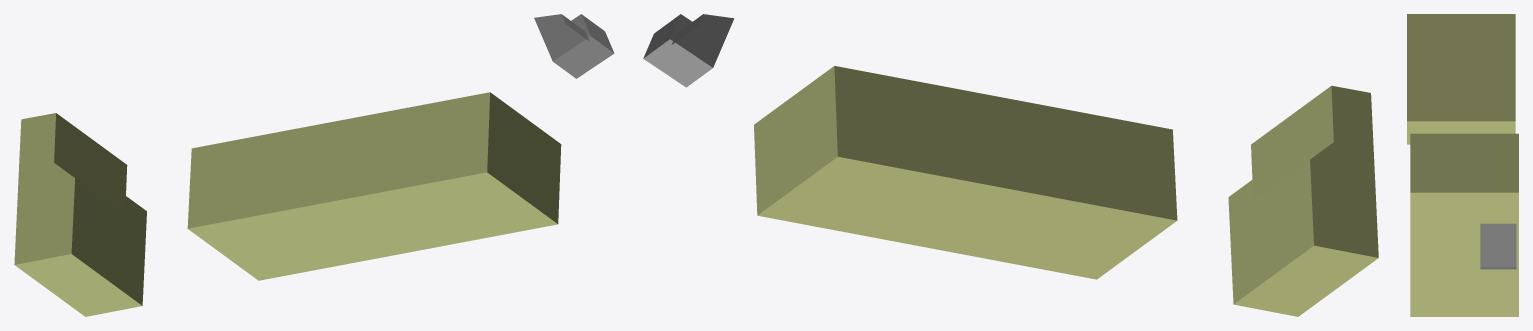
The picture shows the model from 3 angles, left to right: view 1: azimuth 30°, elevation 25°; view 2: azimuth 150°, elevation 25°; view 3: azimuth 270°, elevation 25°; orthographic projection. The views are drawn at different scales.
Parts seen in each view (by area): view 1: 0_1_3_2_1_2_1_1_0; view 2: 0_1_3_2_1_2_1_1_0; view 3: 0_1_3_2_1_2_1_1_0.
Boxes of the visible parts, x1,y1,x2,y2 form: 0_1_3_2_1_2_1_1_0: [14, 14, 614, 316]; 0_1_3_2_1_2_1_1_0: [643, 14, 1378, 316]; 0_1_3_2_1_2_1_1_0: [1407, 14, 1518, 316].
Size of the model in its own units: 42.2 by 11.79 by 9.28.
